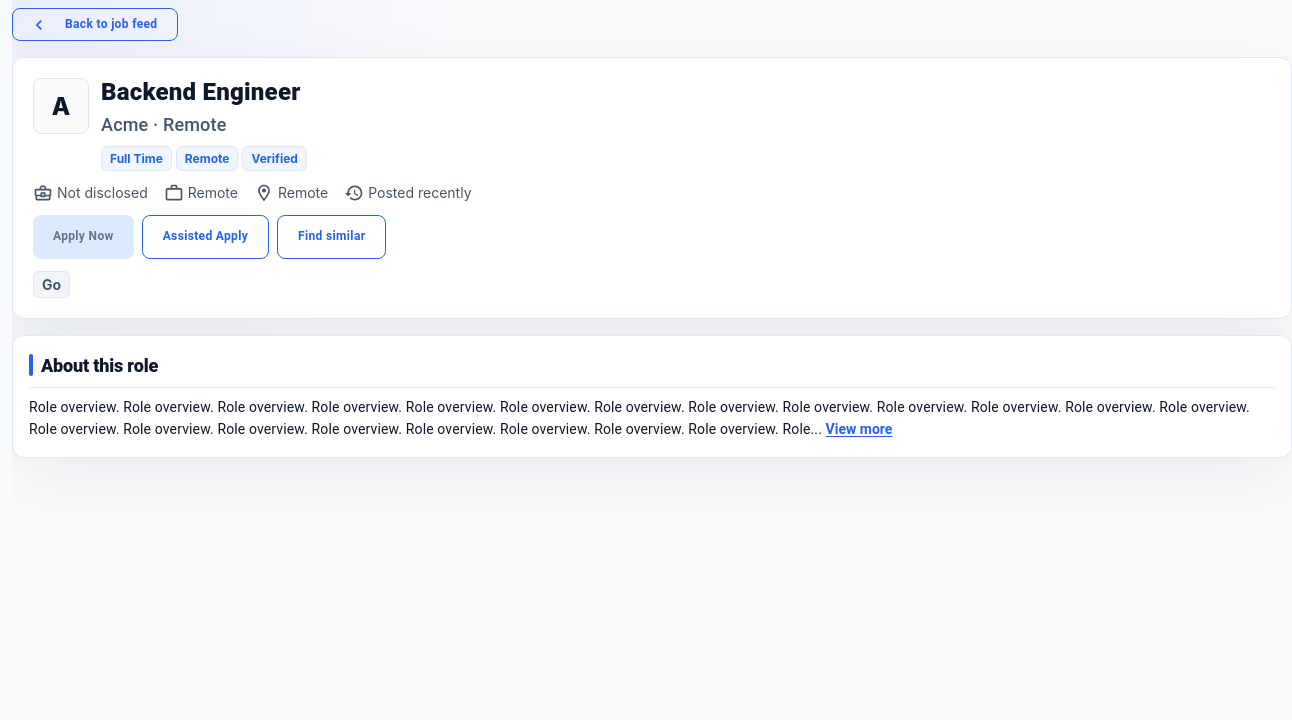
Test case: JobDetailPage › expands and collapses the About this role description
This screenshot has width=1292, height=720.
What coordinates should you click on to do the following:
click the button "View more"
I would click on:
 (859, 429)
Its box is [826,418,892,441].
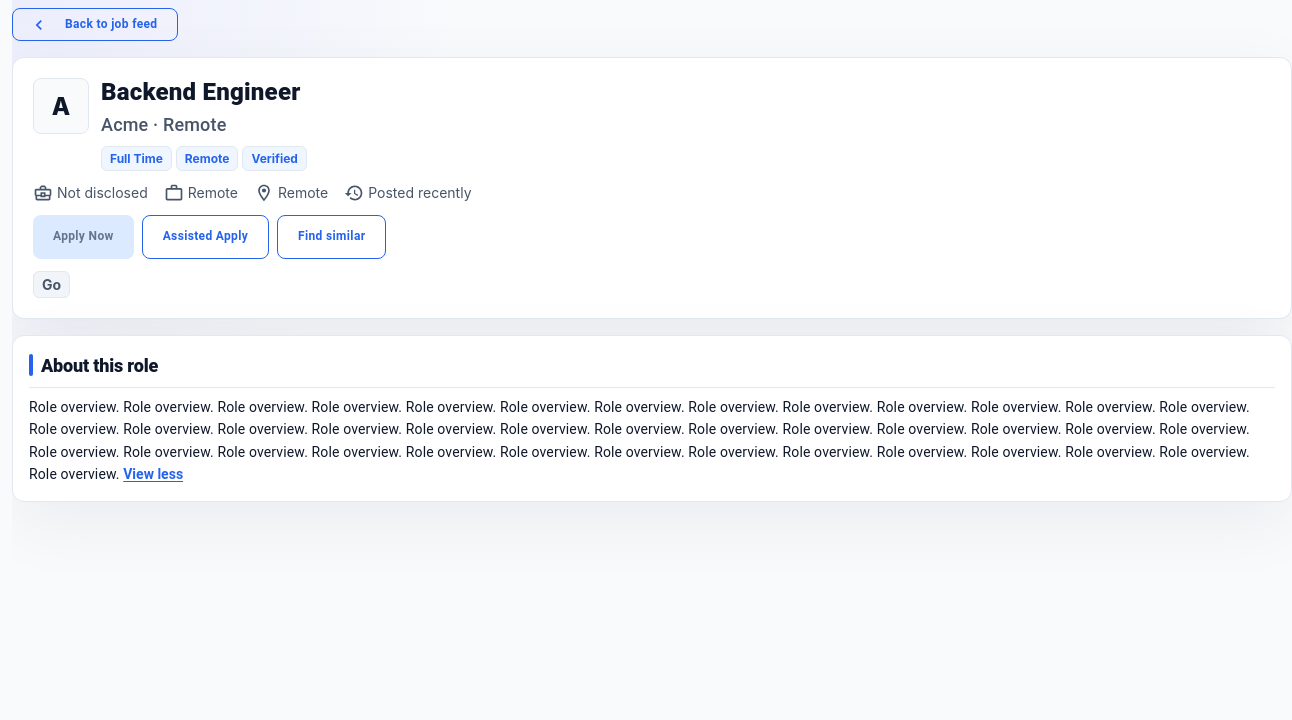
Now the button "View less" is shown
What coordinates should you click on to do the following:
click the button "View less"
I would click on:
 (153, 474)
Its box is [123,463,183,485].
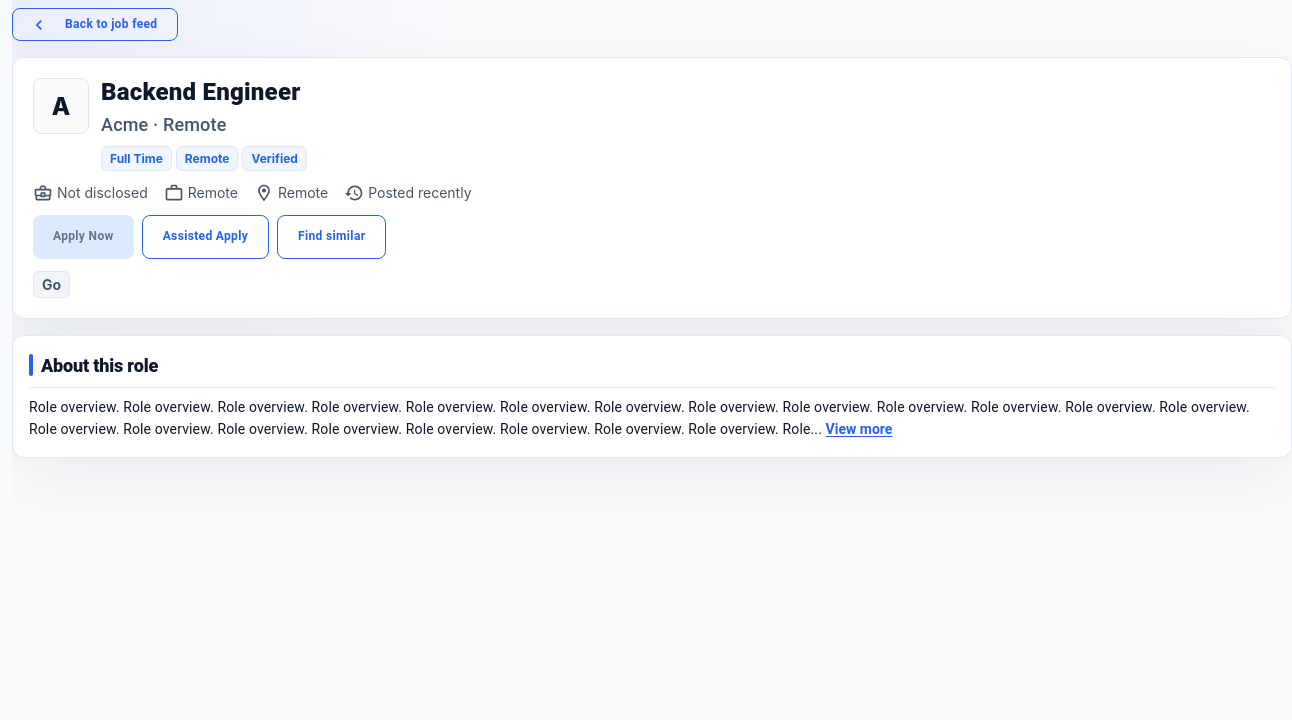
Now the button "View more" is shown, box [826,418,892,441]
